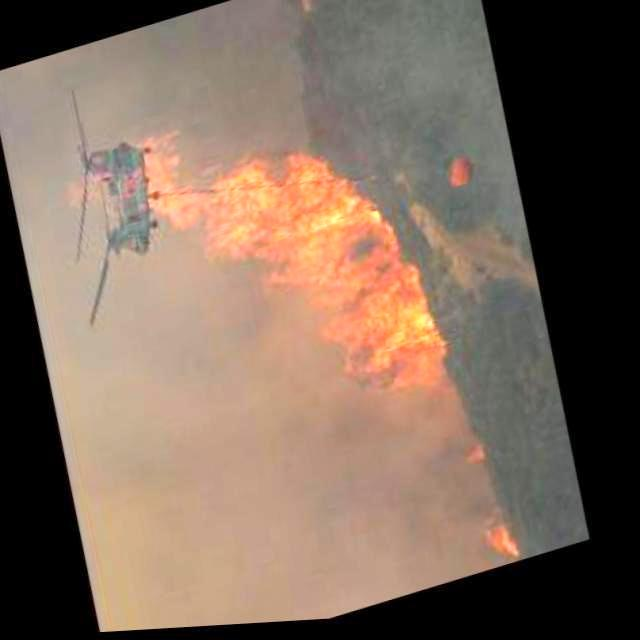fire: (116, 56, 476, 472), (481, 516, 531, 574), (463, 445, 493, 473)
